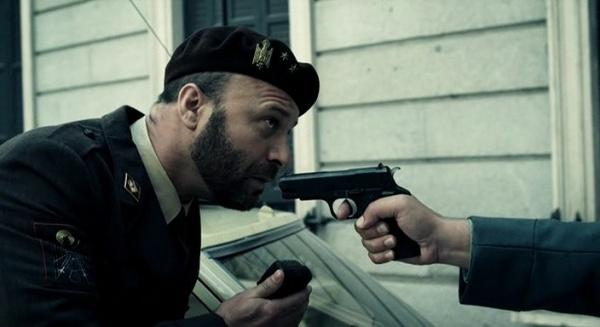Gun: (280, 165, 424, 263)
